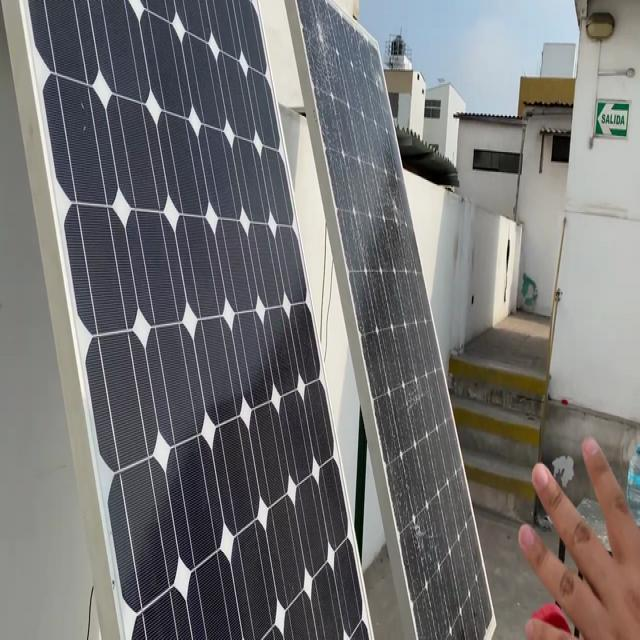Normal Solar Panel: (30, 0, 370, 640)
